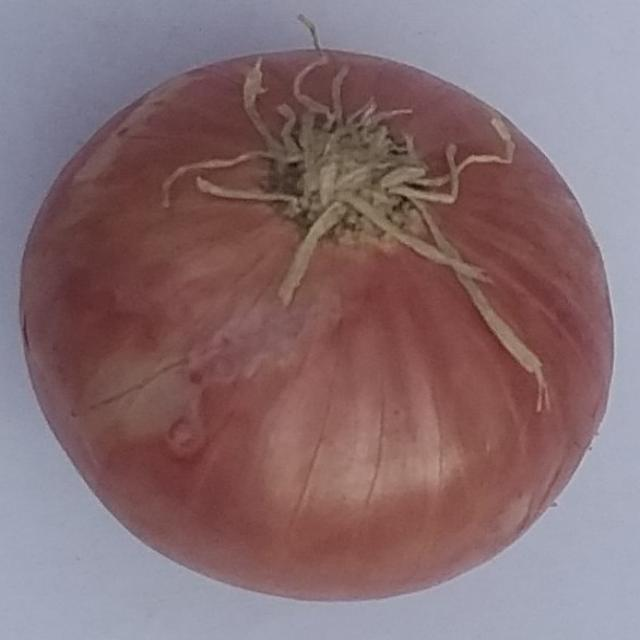onion: (15, 14, 617, 606)
